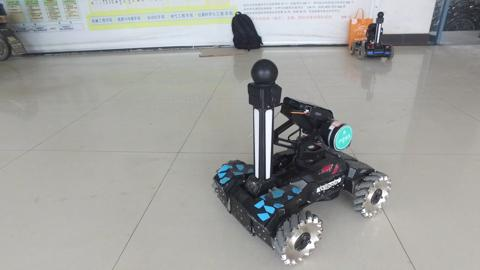bag: (229, 10, 265, 51), (348, 7, 374, 47)
chariot: (211, 58, 392, 266), (348, 10, 396, 59)
